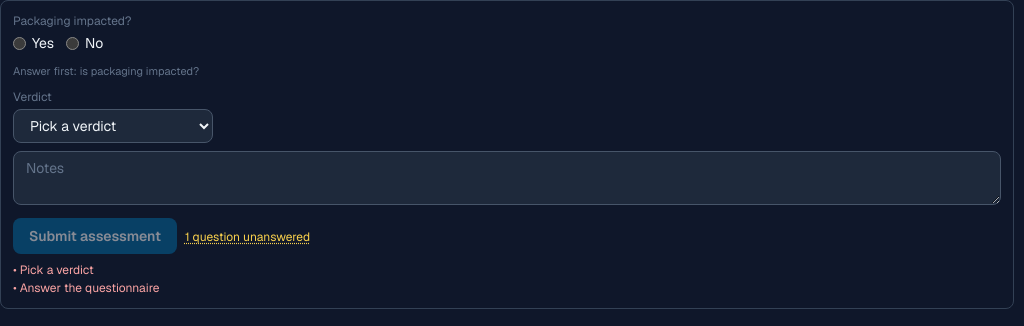
Test: Packaging: only visible questions count › counts the one open first question, not the hidden checklist rows
Check: the text "Answer first: is packaging impacted?" is shown, box [13,64,199,78]
Check: the button with test id "check-open-jump" reads "1 question unanswered", box [185,229,310,245]
Click the radio button with test id "pkg-impacted-no": (73, 43) [66,36,79,50]
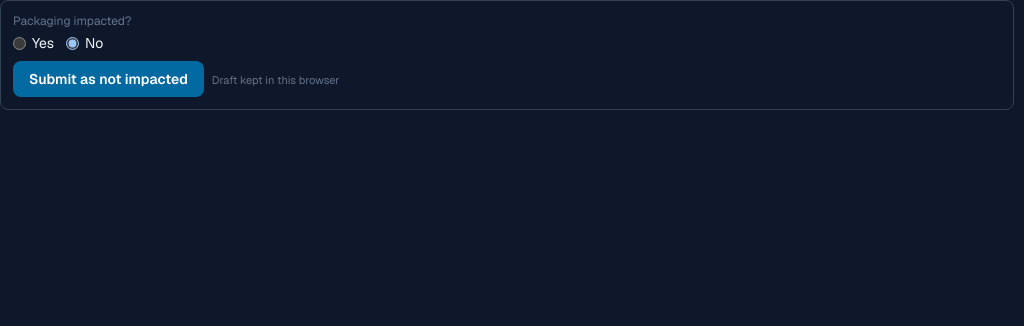
Check: the button with test id "check-open-jump" is gone
